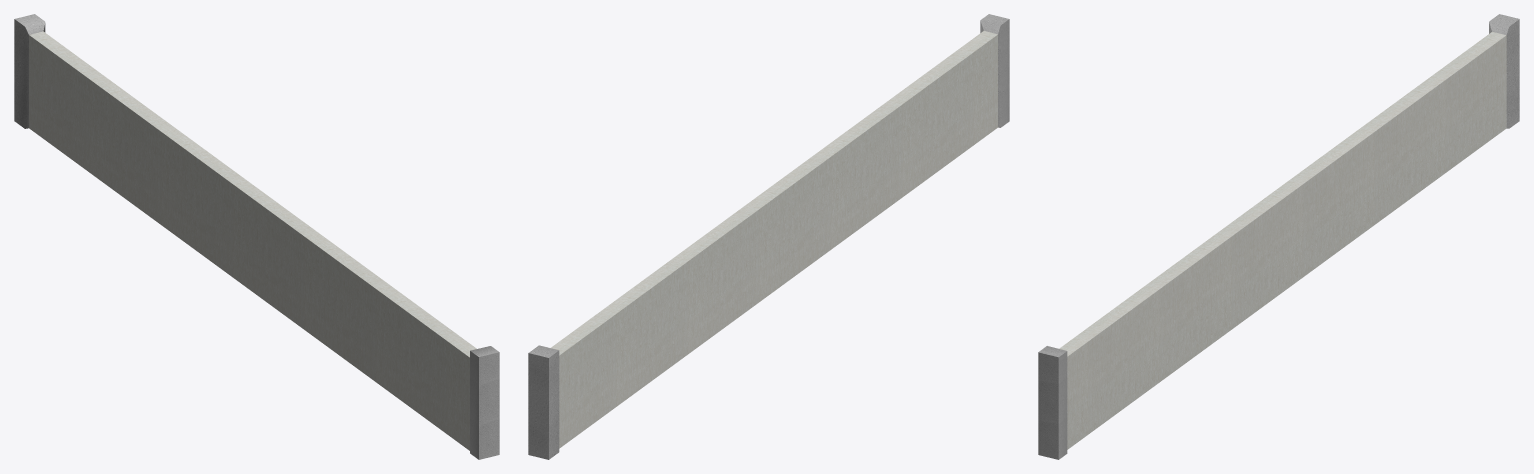
Rendered from muro_mm_1.fbx.
3 views of the same model, side by side, from view 1: azimuth 30°, elevation 25°; view 2: azimuth 150°, elevation 25°; view 3: azimuth 330°, elevation 25° (orthographic).
Visible parts, largest first — view 1: muro_mm_1; view 2: muro_mm_1; view 3: muro_mm_1.
Part boxes in pixels (<box>): muro_mm_1: <box>14,14,499,459</box>; muro_mm_1: <box>528,14,1009,459</box>; muro_mm_1: <box>1038,14,1519,459</box>.
Size of the model in its own units: 0.7358 by 3.3 by 26.97.
